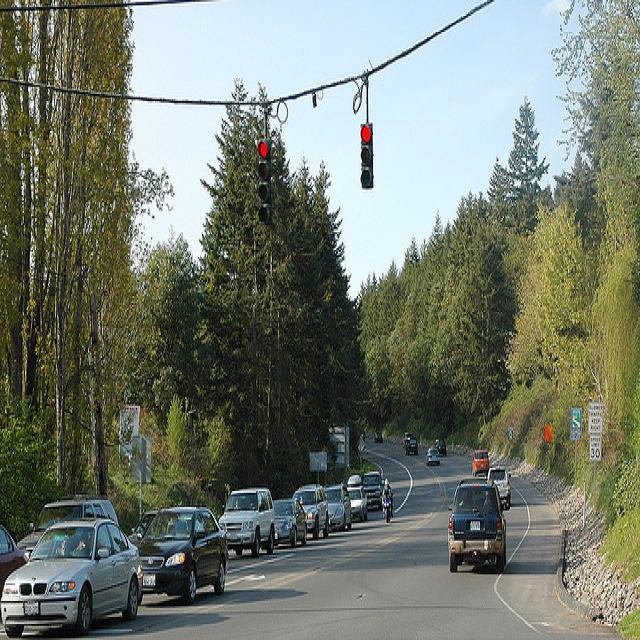motor: (381, 487, 392, 523)
